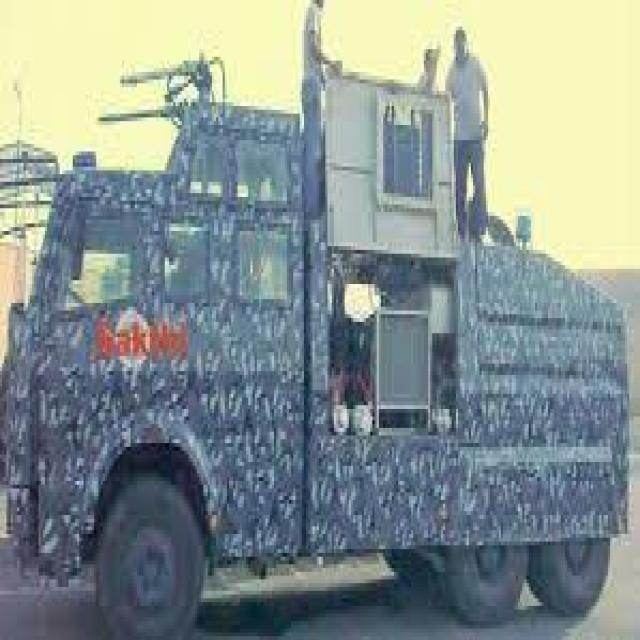Tanks: (0, 34, 631, 628)
